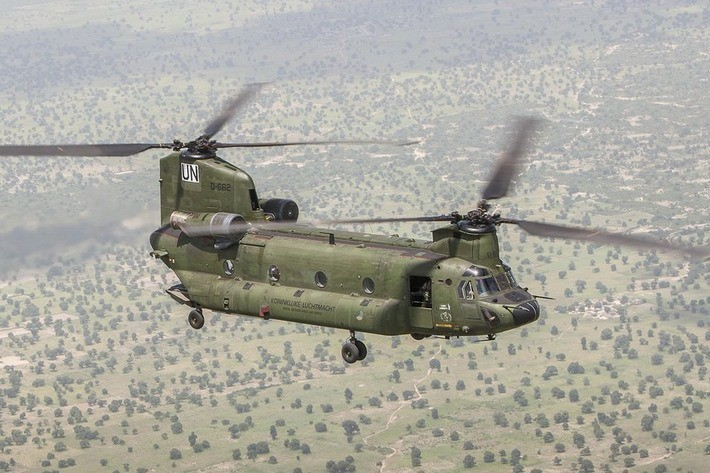chinook: (63, 119, 623, 366)
